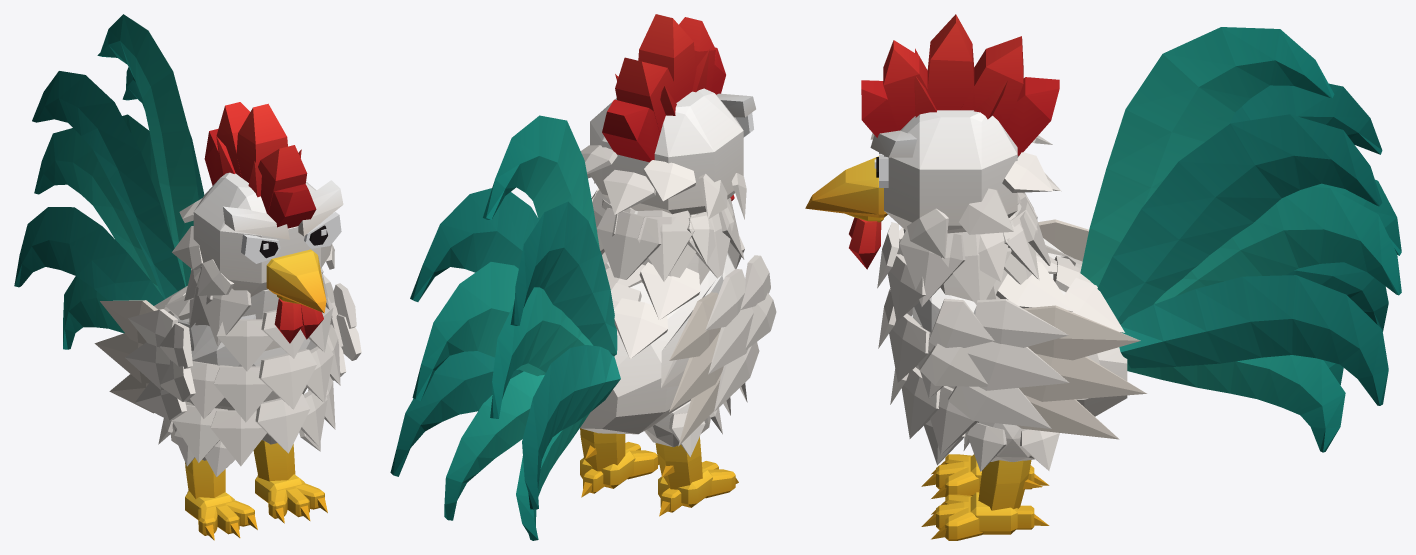
Rendered from RookieRooster.glb.
The picture shows the model from 3 angles, left to right: view 1: azimuth 30°, elevation 25°; view 2: azimuth 150°, elevation 25°; view 3: azimuth 270°, elevation 25°; orthographic projection. The views are drawn at different scales.
Parts seen in each view (by area): view 1: RookieRooster; view 2: RookieRooster; view 3: RookieRooster.
Boxes of the visible parts, <box> form: RookieRooster: <box>14,14,361,540</box>; RookieRooster: <box>390,14,776,540</box>; RookieRooster: <box>805,14,1401,540</box>.
Bounding box in the file's own units: 0.5099 × 1.13 × 1.25.
1 material, 1 textured.
